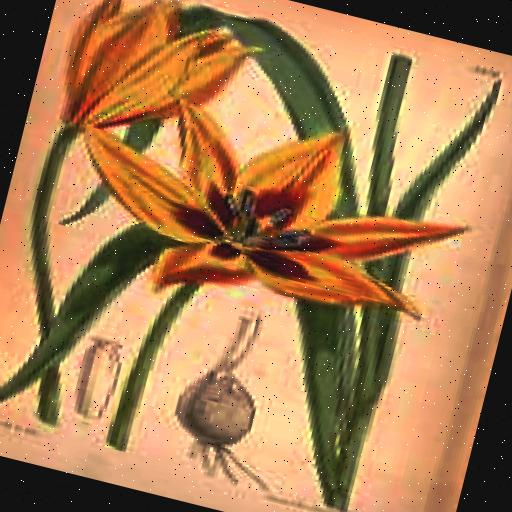tulip: (42, 72, 486, 357)
